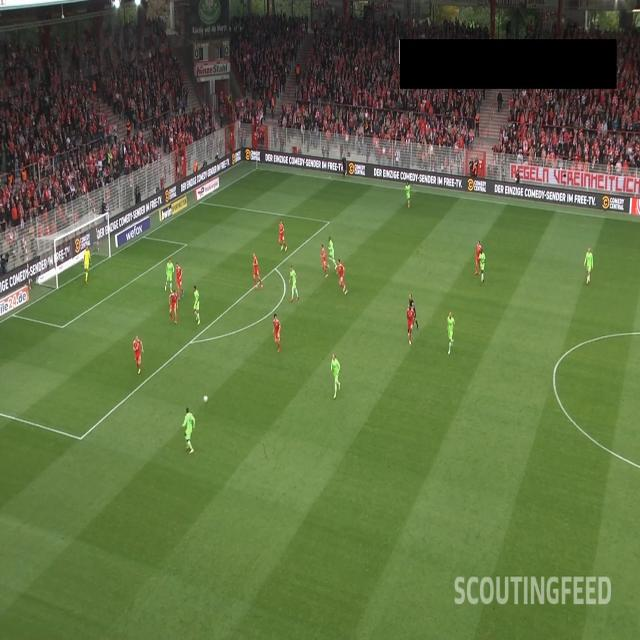ball: (203, 394, 208, 403)
